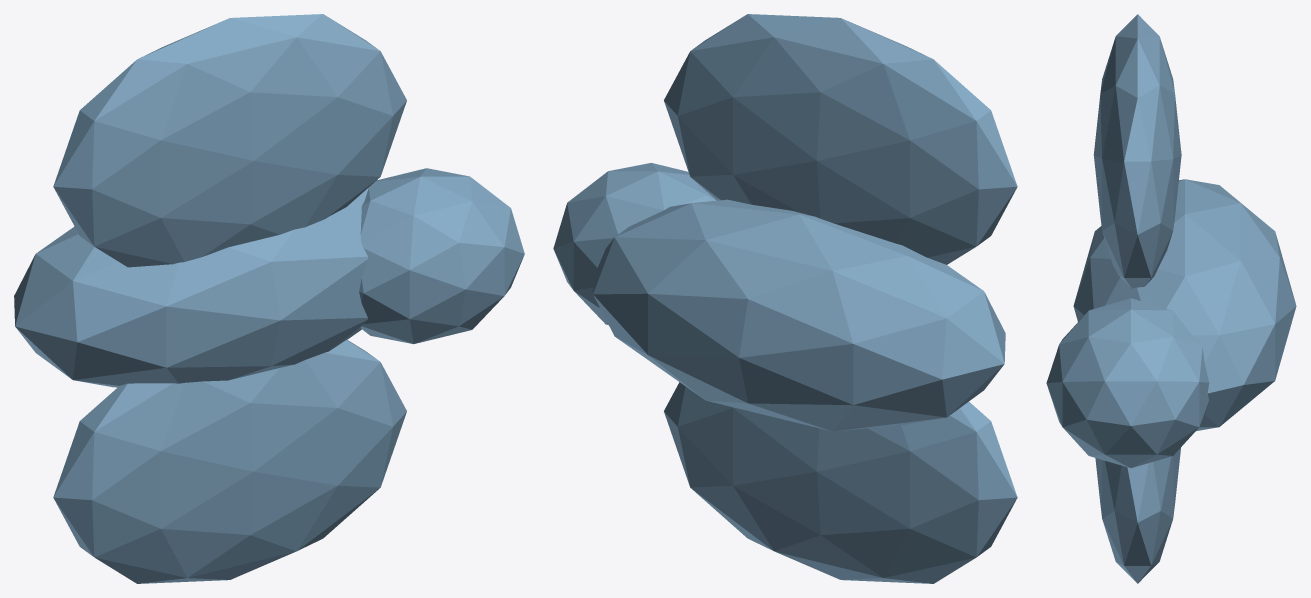
Rendered from bird.glb.
3 renders of one model, left to right at view 1: azimuth 30°, elevation 25°; view 2: azimuth 150°, elevation 25°; view 3: azimuth 270°, elevation 25°, orthographic. The views are drawn at different scales.
Parts seen in each view (by area): view 1: world; view 2: world; view 3: world.
Part boxes in pixels (x1,y1,x2,y2): world: (14, 14, 524, 583); world: (553, 14, 1017, 583); world: (1046, 14, 1296, 583).
Size of the model in its own units: 1.49 by 1.7 by 0.74.
